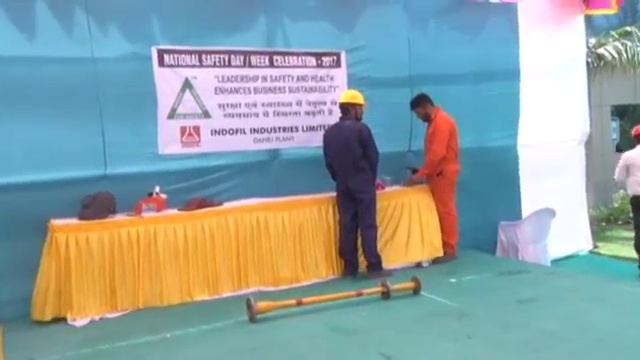helmet: (337, 87, 368, 106), (630, 124, 640, 140)
helmet_off: (411, 90, 436, 119)
helmet_on: (336, 87, 368, 123), (628, 121, 640, 151)
person: (325, 87, 393, 279), (410, 89, 462, 264), (617, 121, 640, 273)
